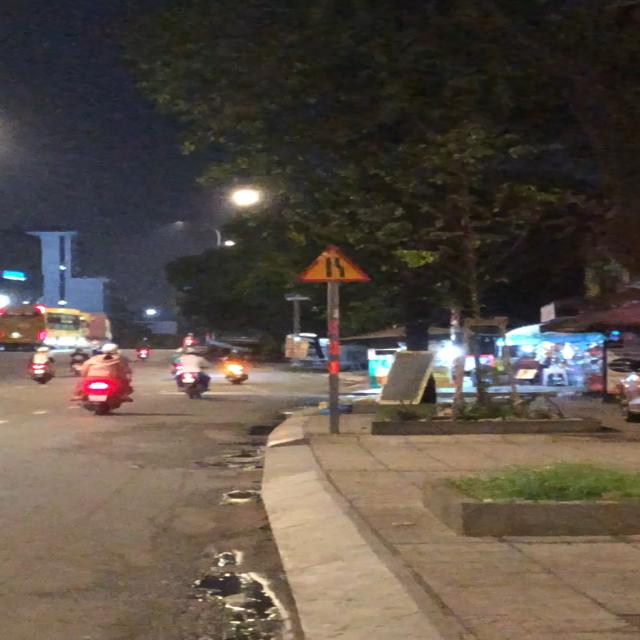Bien bao duong bi thu hep: (292, 242, 376, 284)
